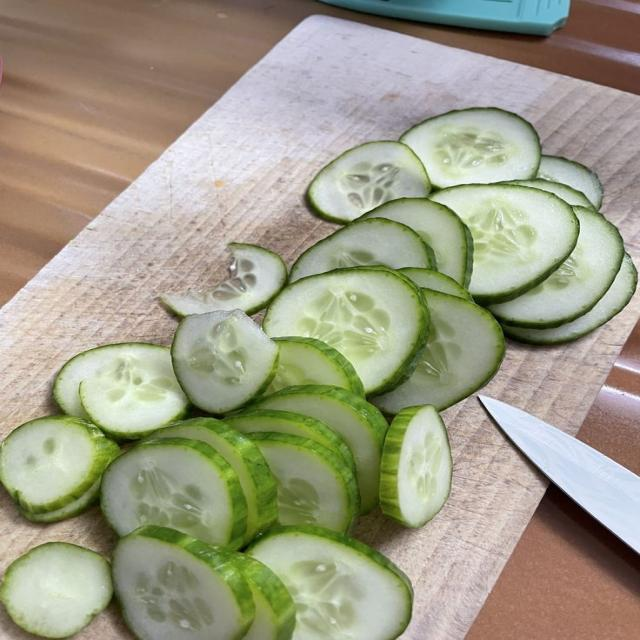cucumber sliced: (263, 267, 428, 394), (248, 526, 413, 639), (432, 184, 579, 304), (253, 386, 387, 514), (371, 290, 505, 414), (489, 207, 624, 328), (101, 438, 247, 548), (113, 526, 254, 639), (150, 418, 277, 542), (54, 343, 188, 438), (503, 254, 637, 344), (0, 416, 119, 514), (400, 108, 540, 188), (249, 432, 359, 532), (172, 310, 278, 413), (0, 543, 113, 638), (307, 141, 430, 222), (360, 199, 473, 285), (160, 243, 286, 316), (290, 218, 432, 281), (380, 405, 452, 527), (225, 409, 354, 467), (266, 336, 364, 396), (234, 554, 295, 639), (20, 477, 101, 523), (538, 155, 602, 210), (507, 179, 593, 208), (399, 268, 473, 301)
